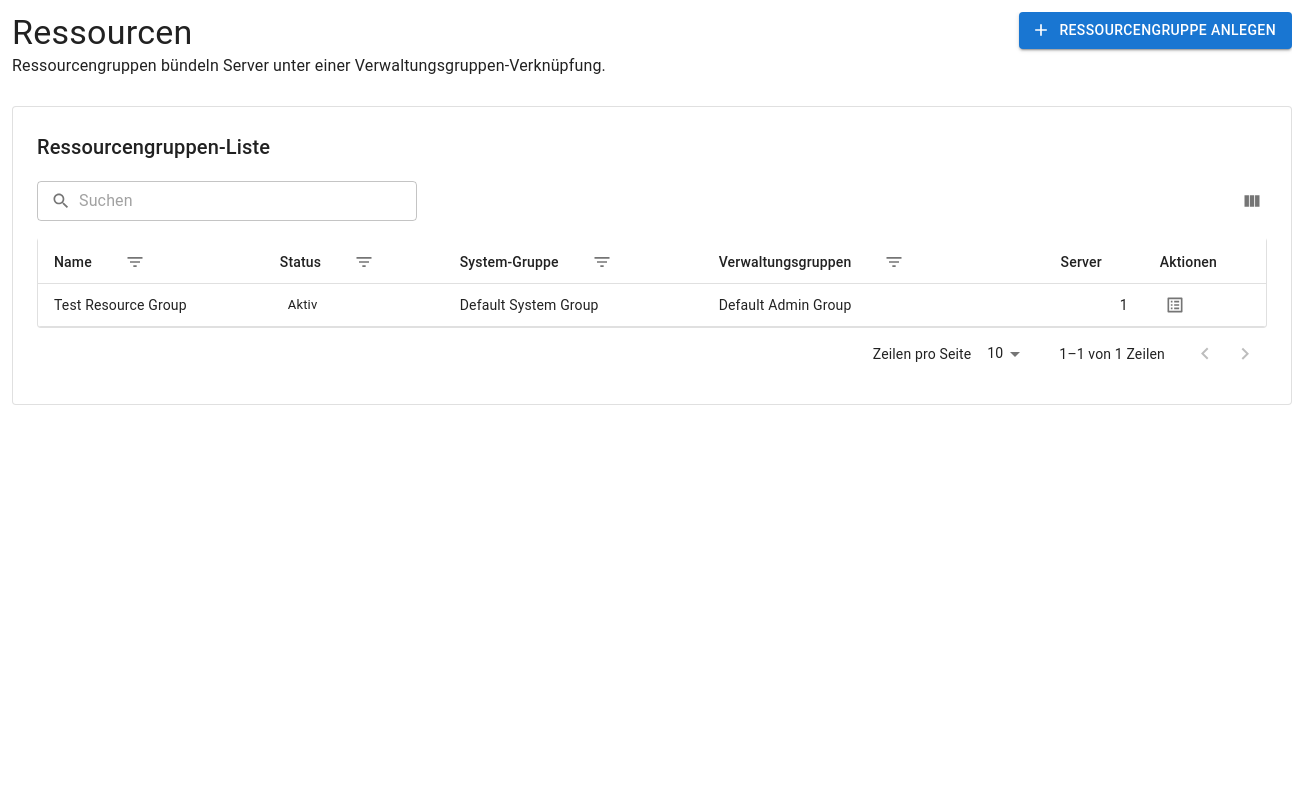
Test: pre-fills the group's current servers, adds a candidate, and saves via setResourceGroupServers
Click the button named "Details" at (1175, 305), box top-left (1160, 290), bottom-right (1190, 320)
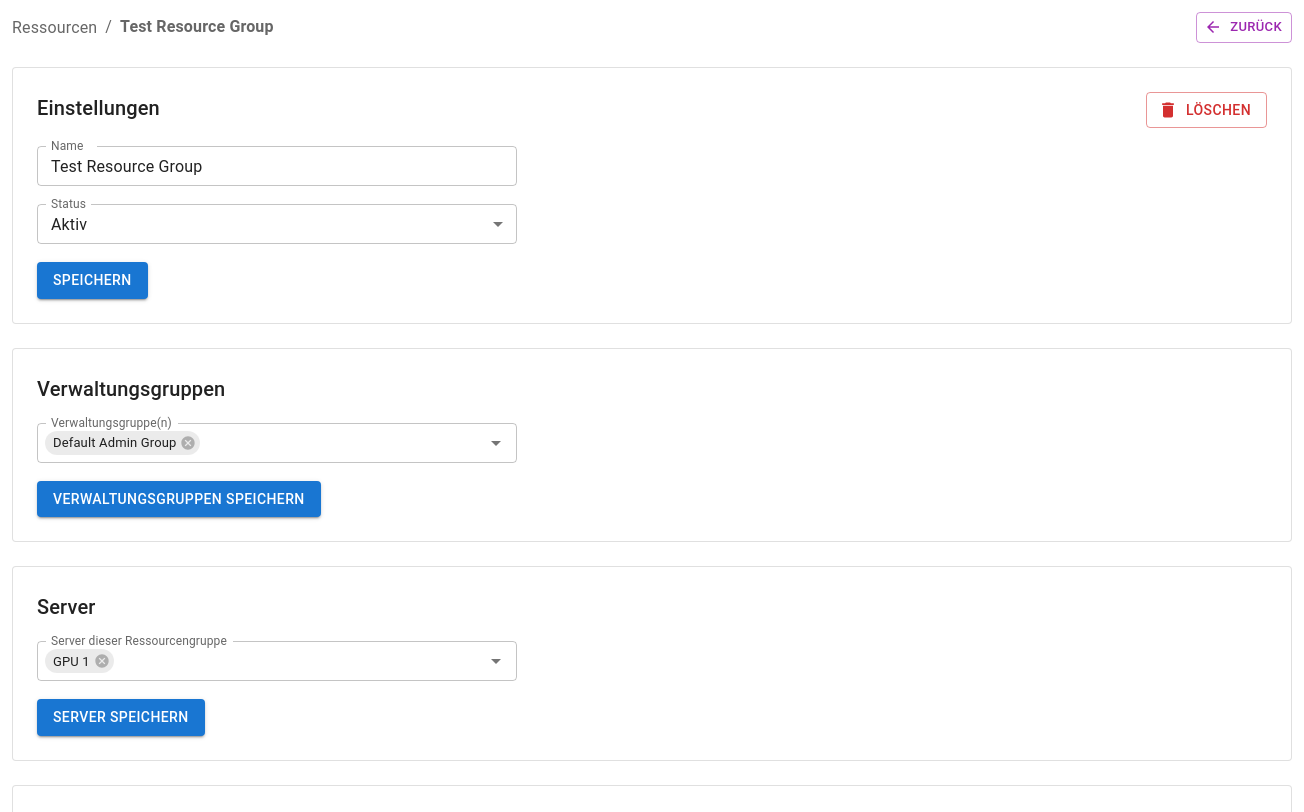
Expected: the heading "Server" is shown, top-left (37, 591), bottom-right (96, 623)
Expected: the text "GPU 1" is shown, top-left (53, 654), bottom-right (90, 668)
Press the mouse on the dropdown labelled "Server dieser Ressourcengruppe" at (284, 661), box top-left (116, 647), bottom-right (452, 675)
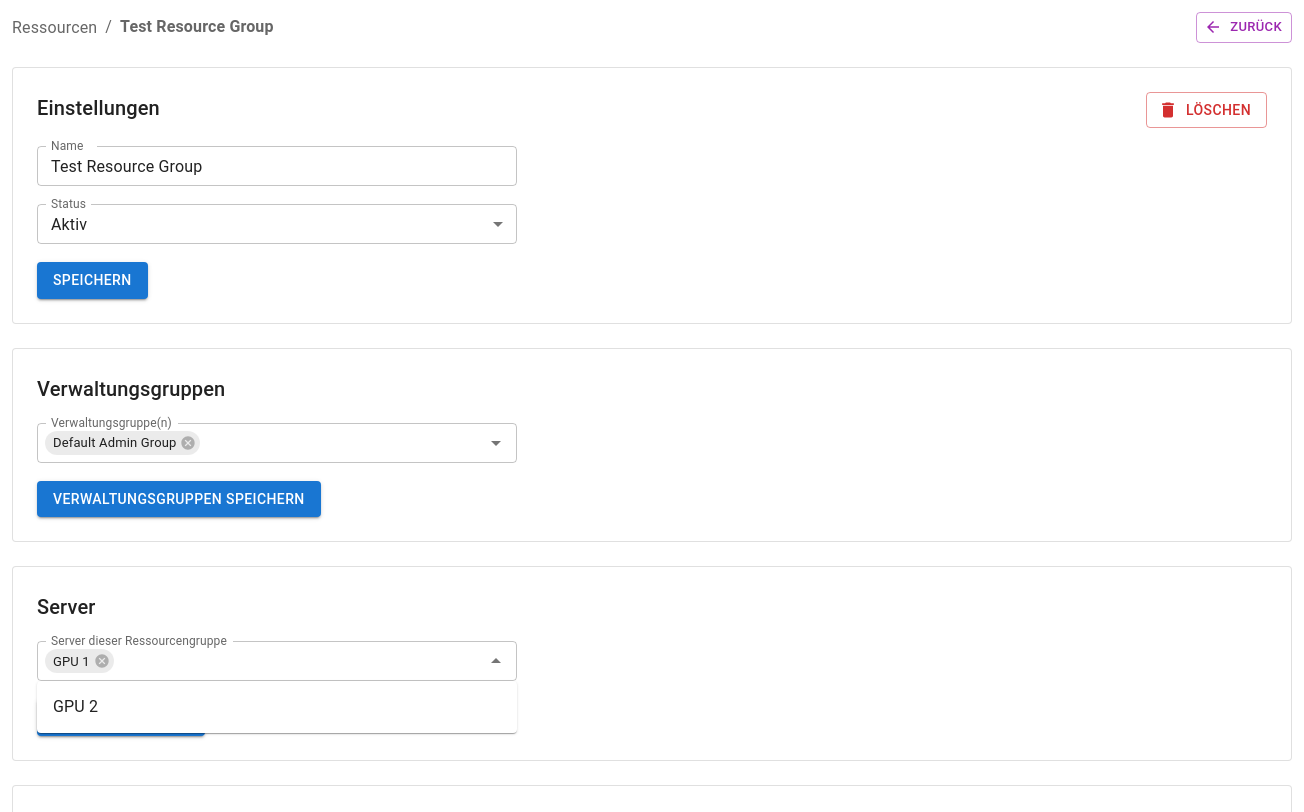
Click the option "GPU 2" at (76, 706), box top-left (53, 697), bottom-right (98, 716)
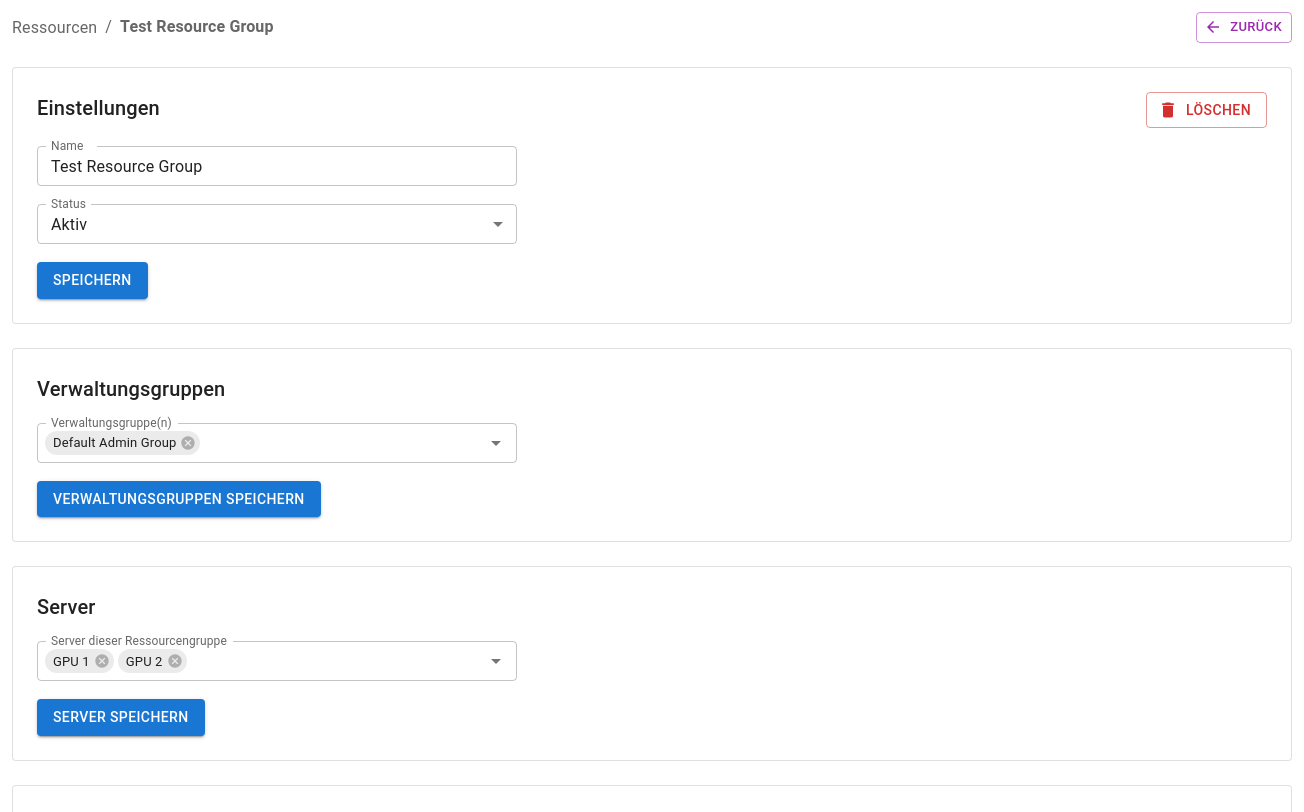
Click the button "Server speichern" at (121, 718), box top-left (37, 699), bottom-right (205, 736)
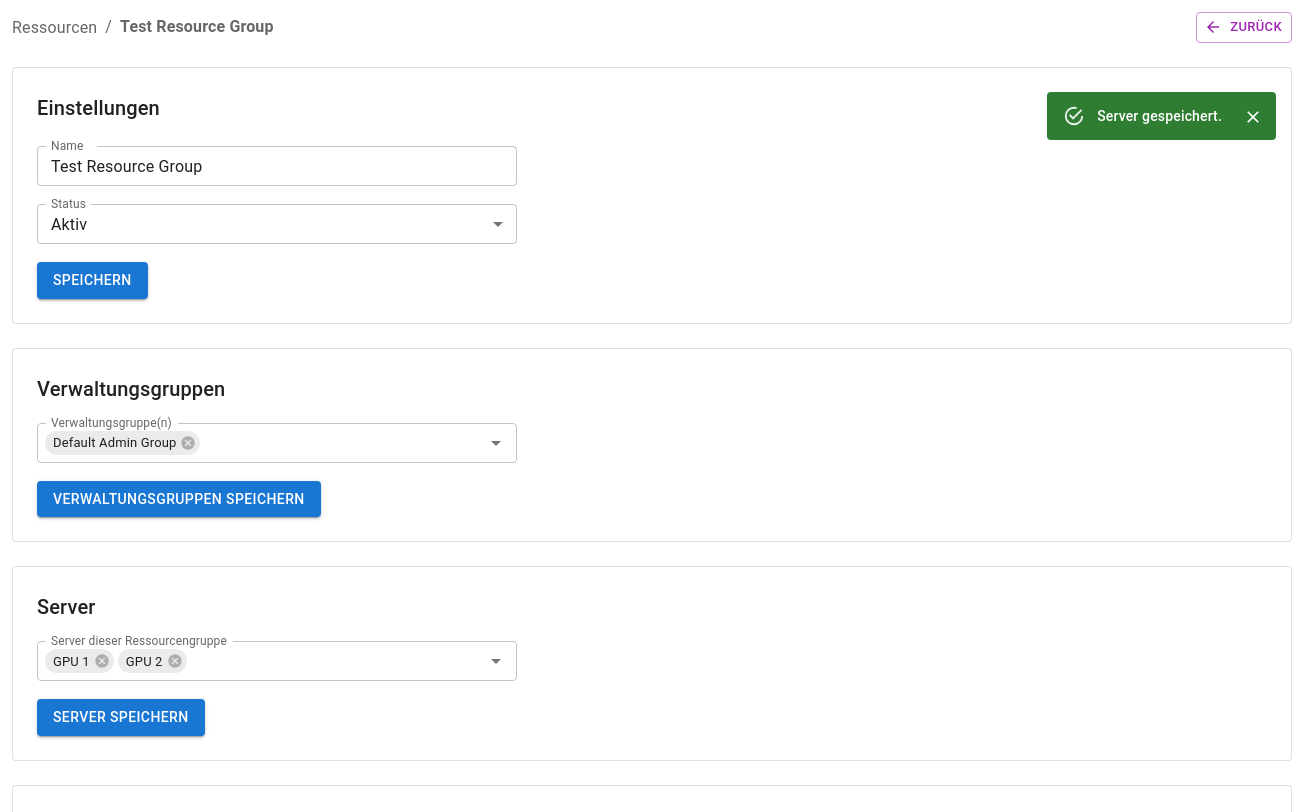
Expected: the text "Server gespeichert." is shown, top-left (1097, 108), bottom-right (1222, 124)
